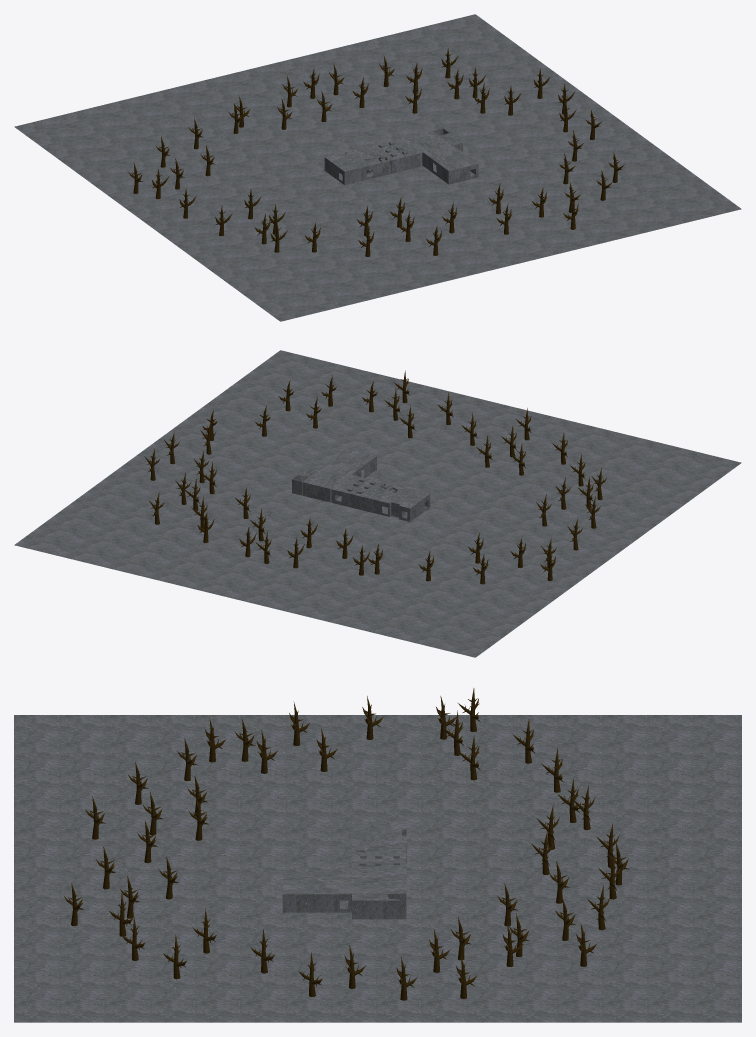
File: Nacht.glb
3 renders of one model, top to bottom at view 1: azimuth 30°, elevation 25°; view 2: azimuth 150°, elevation 25°; view 3: azimuth 270°, elevation 25°, orthographic. The views are drawn at different scales.
Visible parts, largest first — view 1: Circle_Circle.048; view 2: Circle_Circle.048; view 3: Circle_Circle.048.
Boxes of the visible parts, x1=… form: Circle_Circle.048: x1=14, y1=14, x2=741, y2=321; Circle_Circle.048: x1=14, y1=350, x2=741, y2=657; Circle_Circle.048: x1=14, y1=688, x2=741, y2=1022.
Size of the model in its own units: 37.63 by 2.65 by 37.63.
4 materials, 4 textured.
